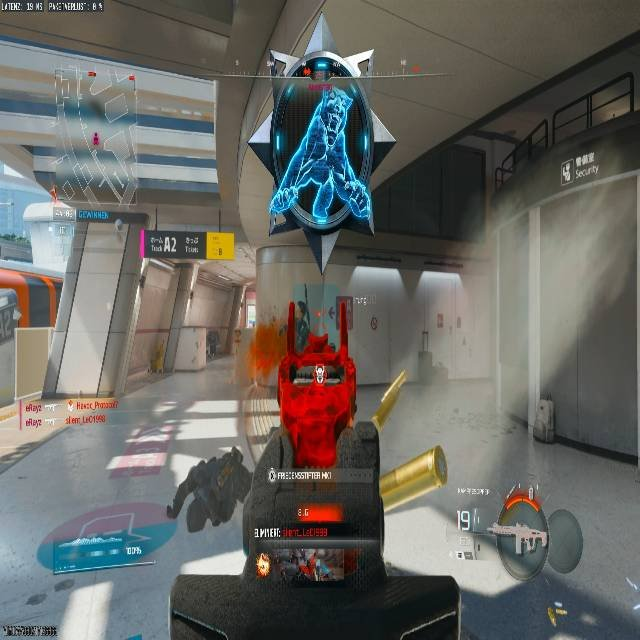head: (275, 340, 357, 433)
player: (179, 324, 389, 598)
